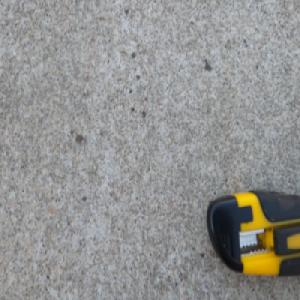Cutter: (206, 187, 300, 279)
